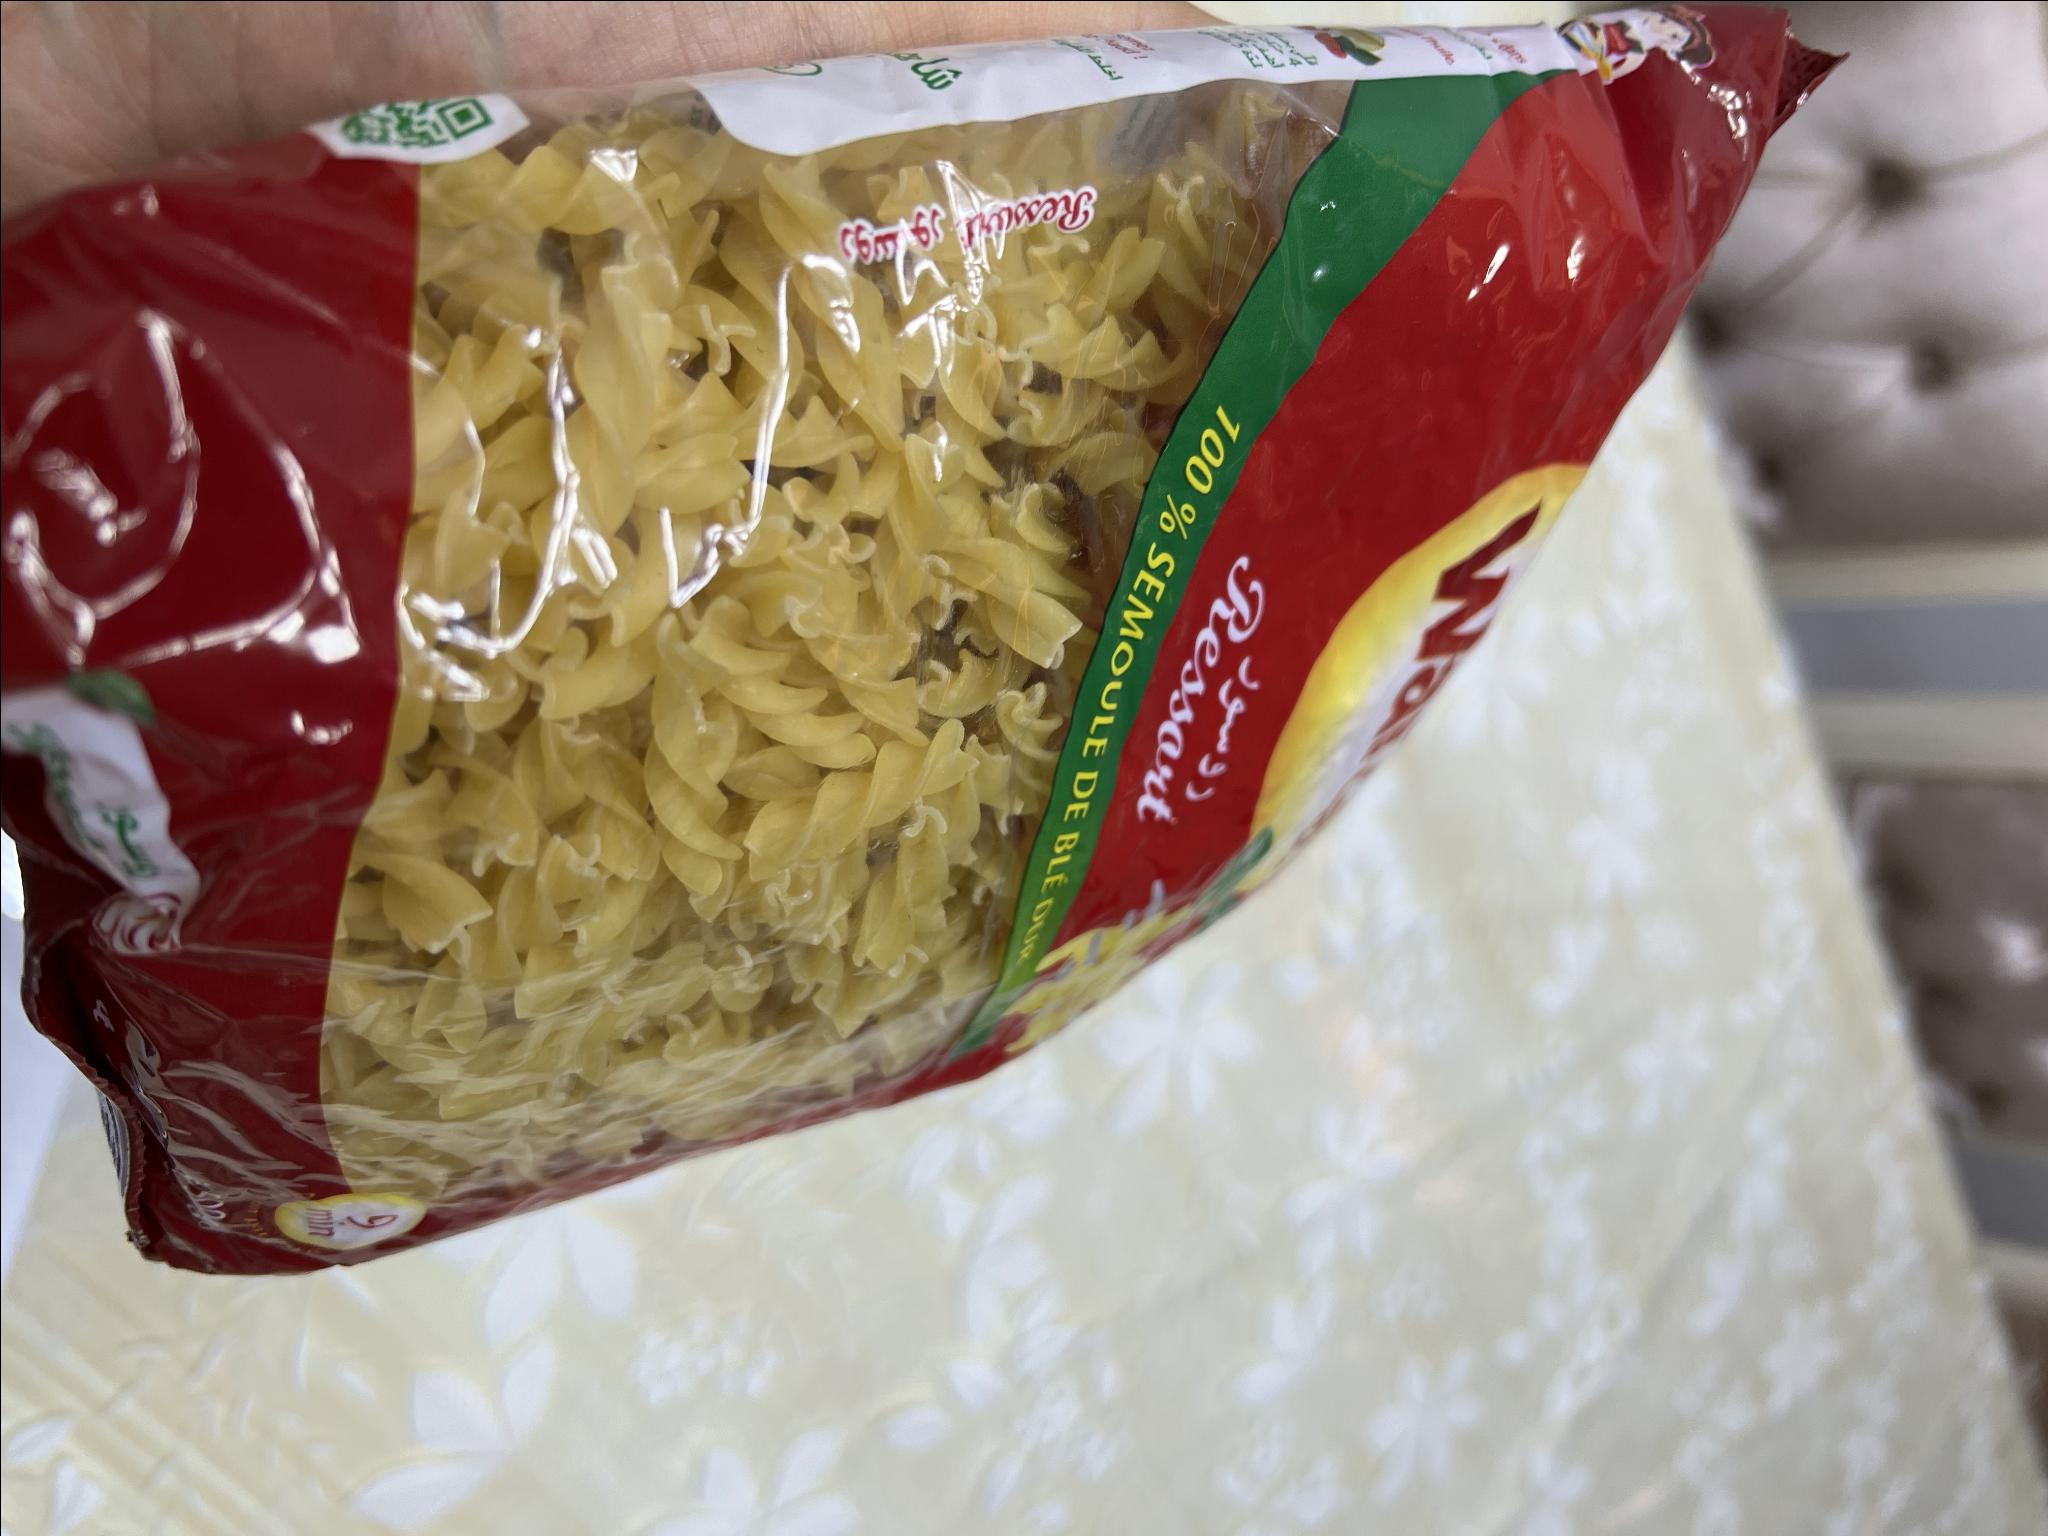Ressort: (21, 47, 1803, 1256)
